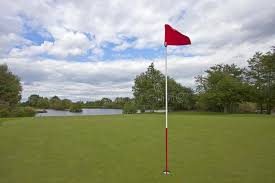Flag: (164, 24, 192, 48)
